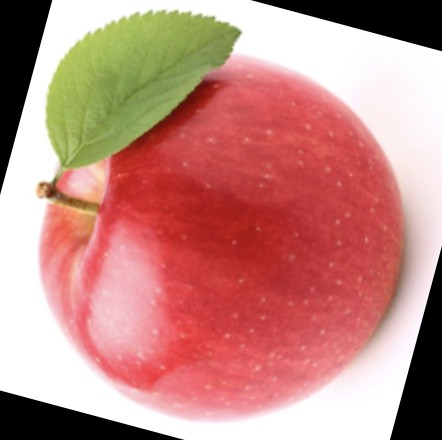fresh_apple: (44, 55, 405, 420)
